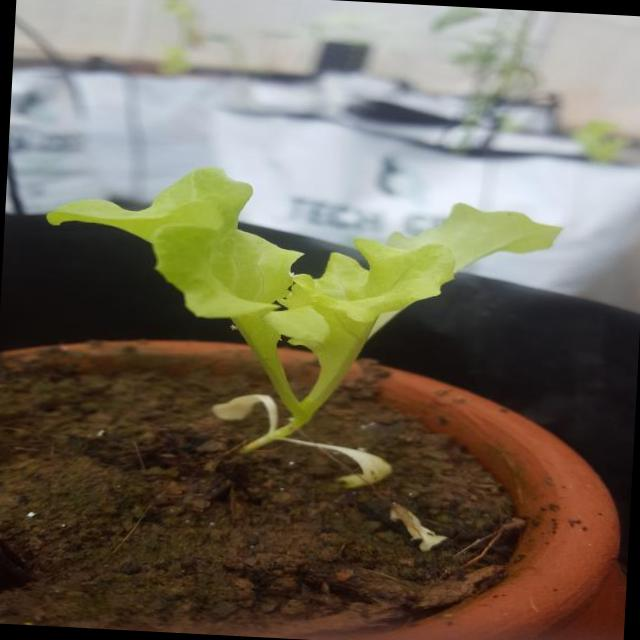Lettuce-Not-Ready-to-Harvest: (46, 167, 563, 491)
